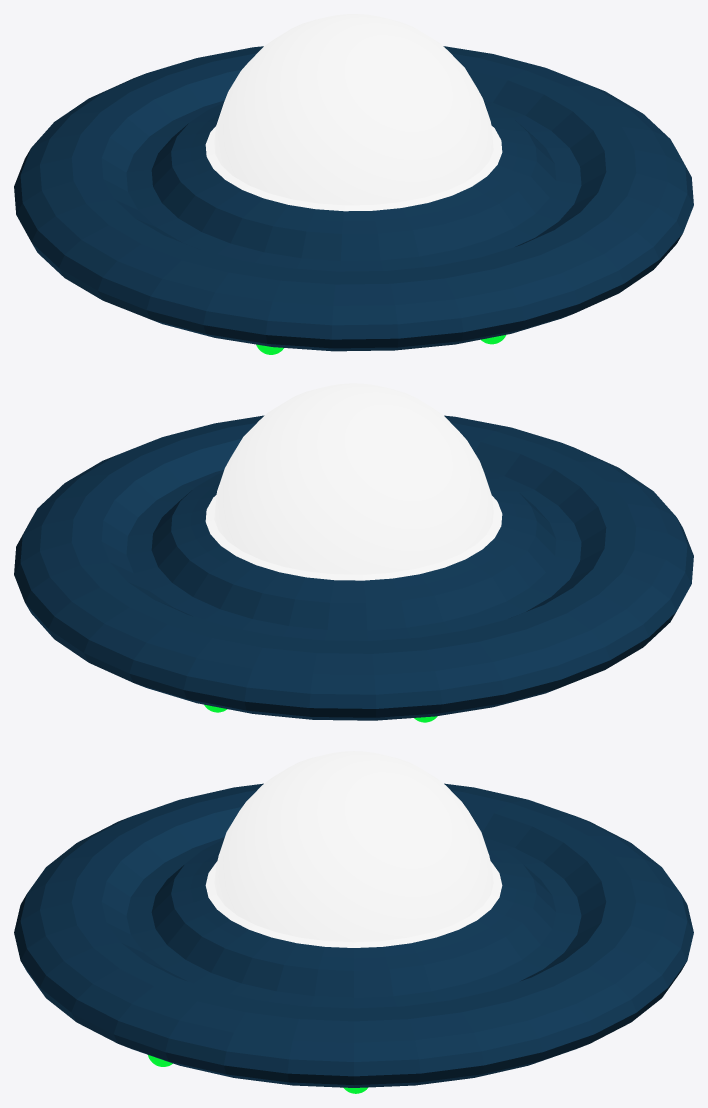
The model's file is ufo9.gltf.
The picture shows the model from 3 angles, top to bottom: view 1: azimuth 30°, elevation 25°; view 2: azimuth 150°, elevation 25°; view 3: azimuth 270°, elevation 25°; orthographic projection.
Parts seen in each view (by area): view 1: Sphere, Sphere.001; view 2: Sphere, Sphere.001; view 3: Sphere, Sphere.001.
Part boxes in pixels (left/top/right/bottom): Sphere: left=14, top=46, right=693, bottom=351; Sphere.001: left=214, top=14, right=493, bottom=205; Sphere: left=14, top=415, right=693, bottom=720; Sphere.001: left=214, top=383, right=493, bottom=574; Sphere: left=14, top=783, right=693, bottom=1087; Sphere.001: left=214, top=751, right=493, bottom=942.
Bounding box in the file's own units: 7.53 × 3.11 × 7.53.
